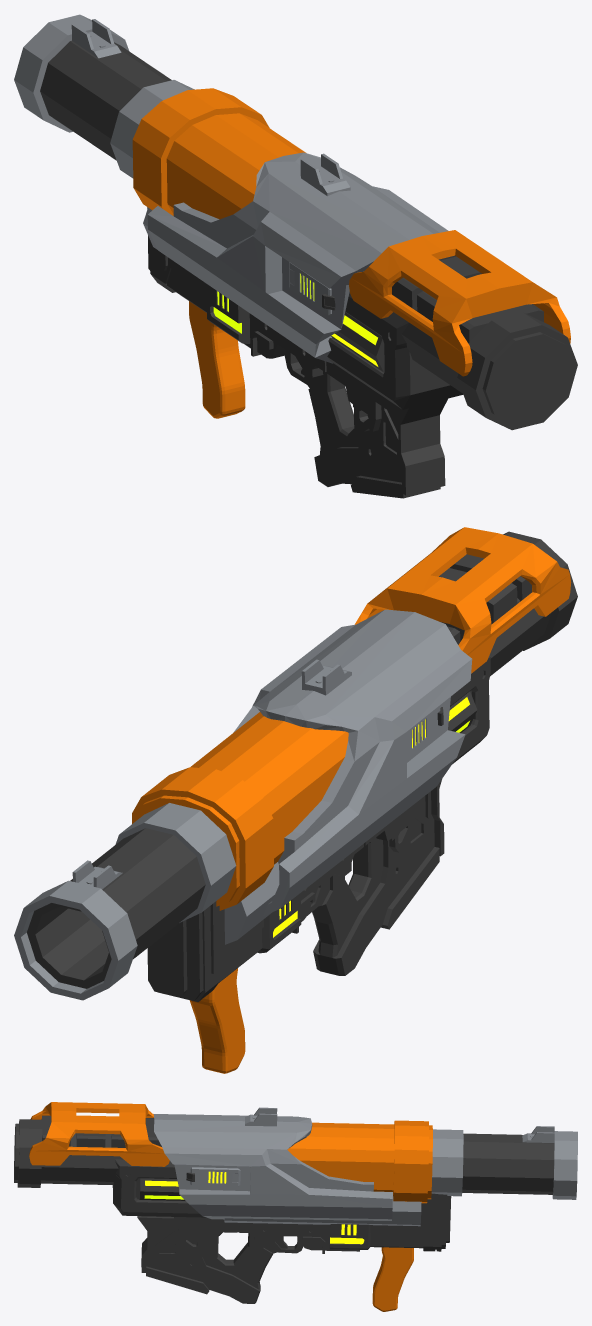
The model's file is rpg.glb.
3 renders of one model, top to bottom at view 1: azimuth 30°, elevation 25°; view 2: azimuth 150°, elevation 25°; view 3: azimuth 270°, elevation 25°, orthographic. The views are drawn at different scales.
Parts seen in each view (by area): view 1: rpg; view 2: rpg; view 3: rpg.
Part boxes in pixels (x1,y1,x2,y2): rpg: (14, 14, 577, 498); rpg: (14, 527, 577, 1073); rpg: (14, 1102, 577, 1311).
Size of the model in its own units: 0.2302 by 0.5088 by 1.31.
1 material, 1 textured.
